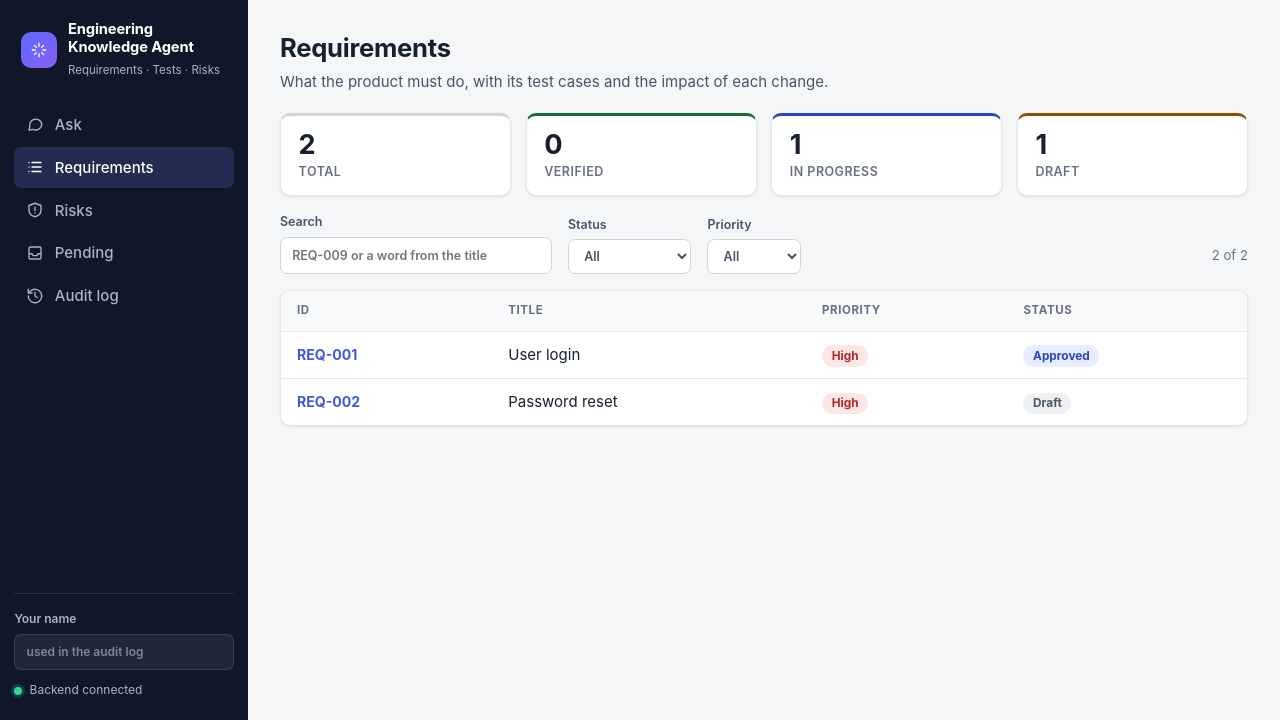
requirements page › filters the list by search text
This screenshot has width=1280, height=720.
Expected: the text "Password reset" is shown, [492,379,806,425]
Step 1. Type "login" into the search field labelled "Search" → {"x": 416, "y": 255}, box [280,237,552,274]
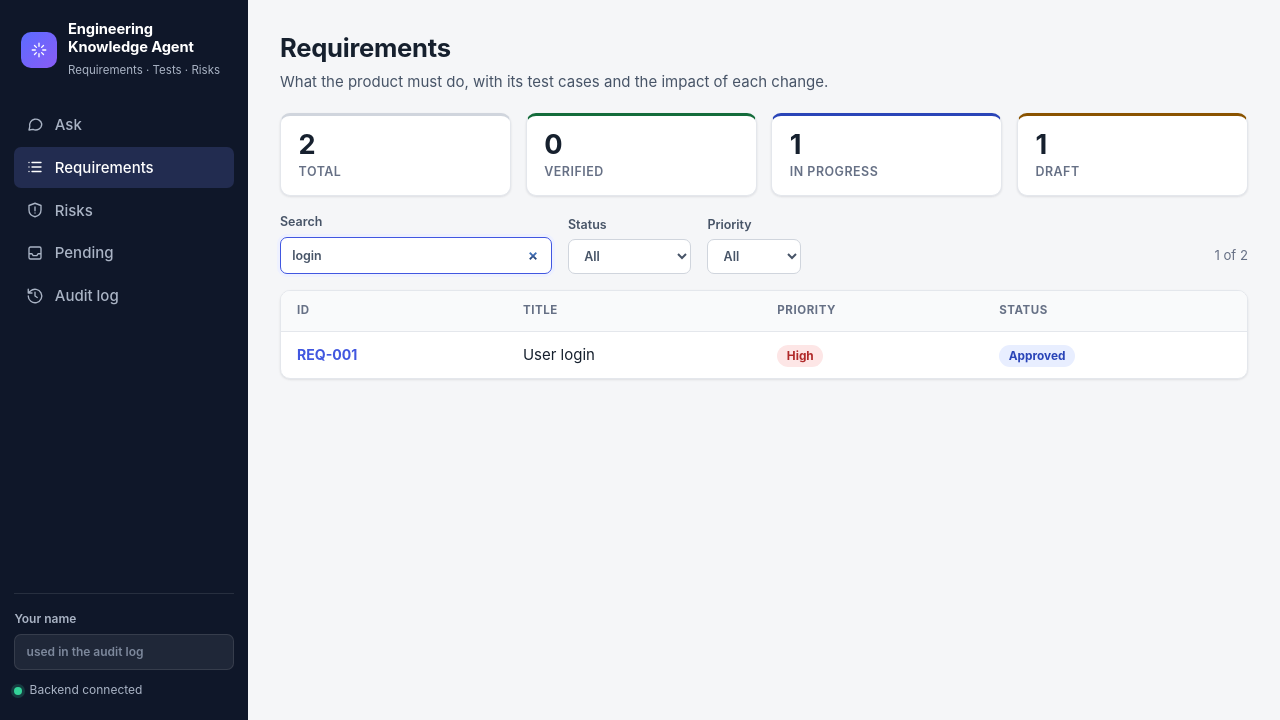
Expected: the text "User login" is shown, [507,332,761,378]
Now the text "Password reset" is gone
